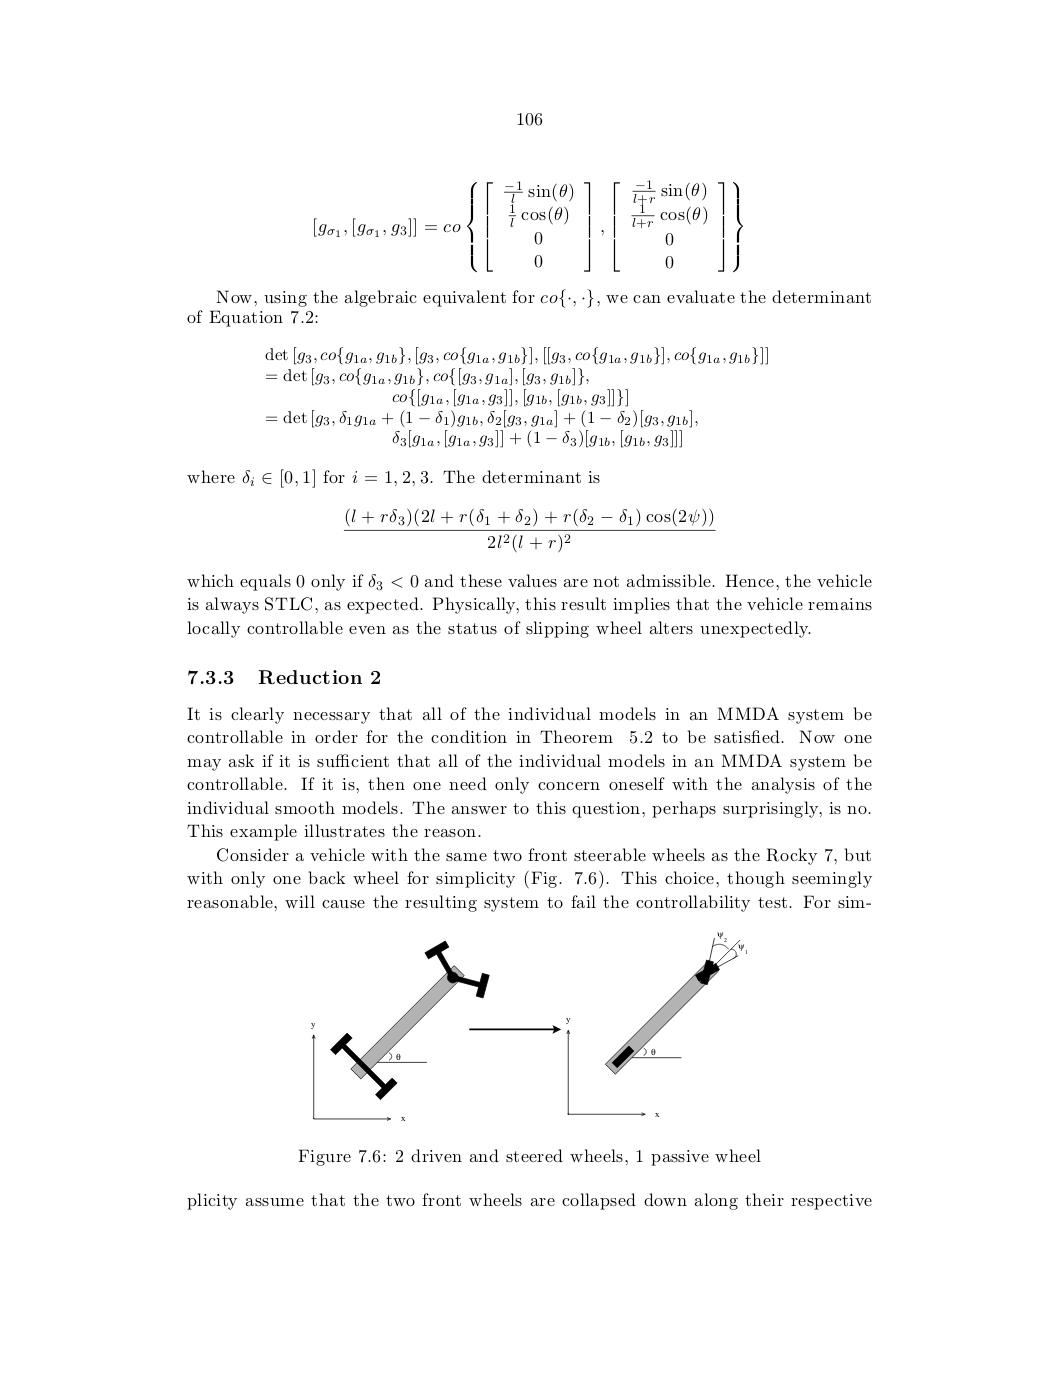figure: (311, 931, 746, 1121)
formula: (314, 179, 742, 273), (343, 507, 716, 553), (266, 409, 697, 448), (265, 347, 767, 364), (266, 368, 588, 384), (392, 388, 627, 407)
